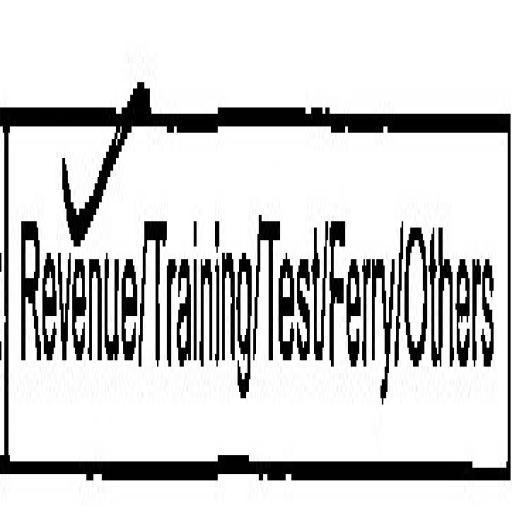check: (0, 33, 144, 493)
